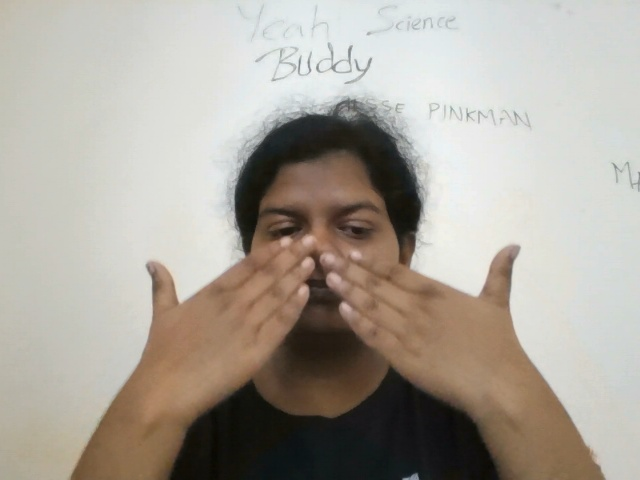thank you: (77, 213, 576, 452)
